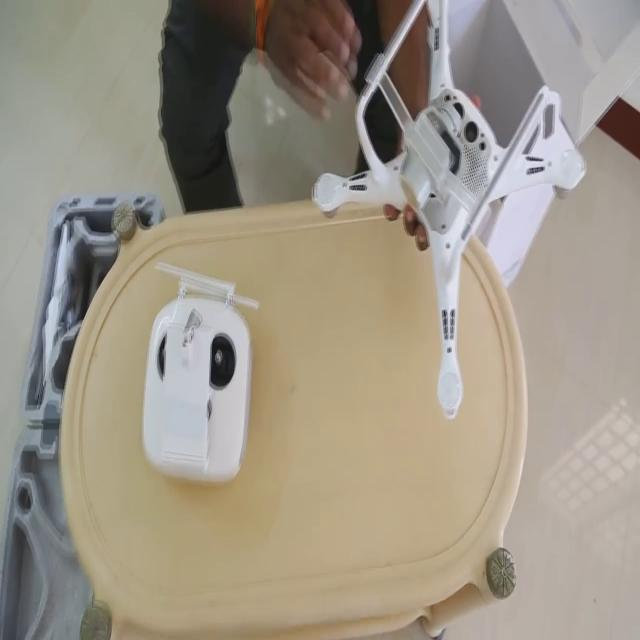drone: (301, 2, 593, 420)
